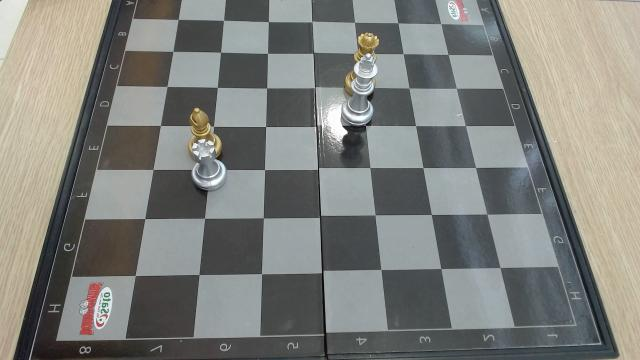black_bishop: (188, 107, 221, 140)
black_queen: (353, 32, 379, 63)
white_king: (348, 53, 377, 126)
white_rook: (189, 139, 225, 191)
